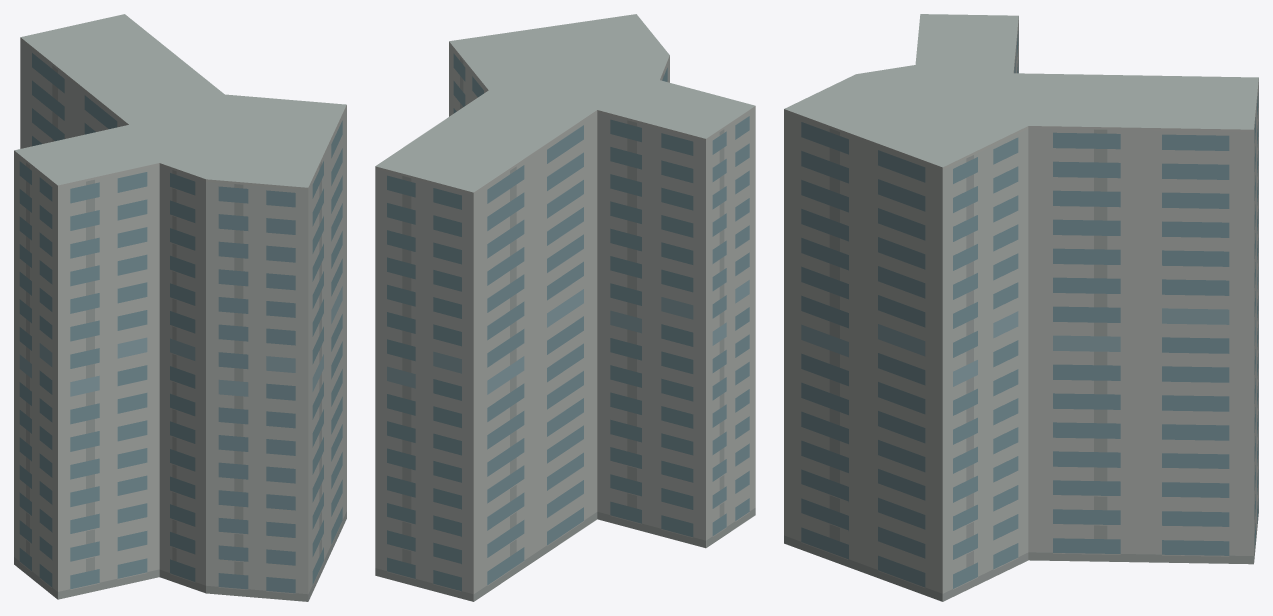
Rendered from residential-2bd4d99a-0fe1-40b4-a6cc-dfcb5e6f75e6.glb.
3 views of the same model, side by side, from view 1: azimuth 30°, elevation 25°; view 2: azimuth 150°, elevation 25°; view 3: azimuth 270°, elevation 25° (orthographic). The views are drawn at different scales.
Parts seen in each view (by area): view 1: residential-2bd4d99a-0fe1-40b4-a6cc-dfcb5e6f75e6.tmp; view 2: residential-2bd4d99a-0fe1-40b4-a6cc-dfcb5e6f75e6.tmp; view 3: residential-2bd4d99a-0fe1-40b4-a6cc-dfcb5e6f75e6.tmp.
Part boxes in pixels (x1,y1,x2,y2): residential-2bd4d99a-0fe1-40b4-a6cc-dfcb5e6f75e6.tmp: (14, 14, 346, 601); residential-2bd4d99a-0fe1-40b4-a6cc-dfcb5e6f75e6.tmp: (375, 14, 755, 601); residential-2bd4d99a-0fe1-40b4-a6cc-dfcb5e6f75e6.tmp: (784, 14, 1258, 601).
Size of the model in its own units: 32.58 by 43 by 42.6.
